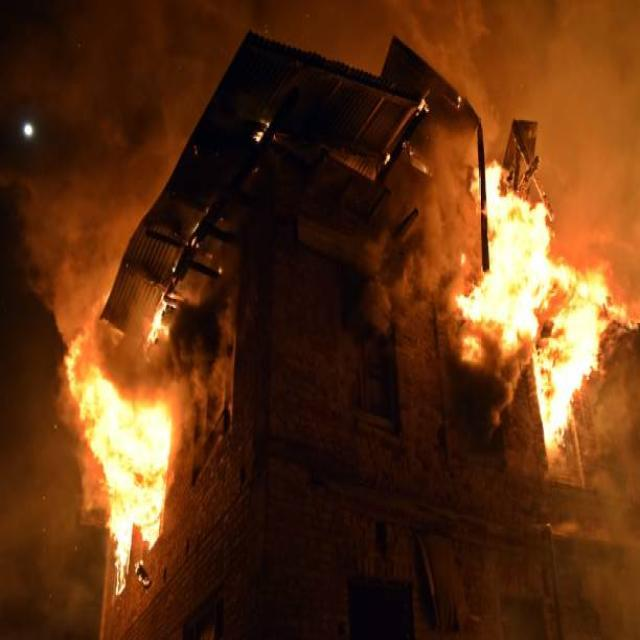Fire: (454, 160, 608, 466), (60, 330, 172, 591)
Smoke: (54, 0, 232, 331), (486, 0, 640, 325), (376, 124, 488, 336), (88, 296, 229, 398)
